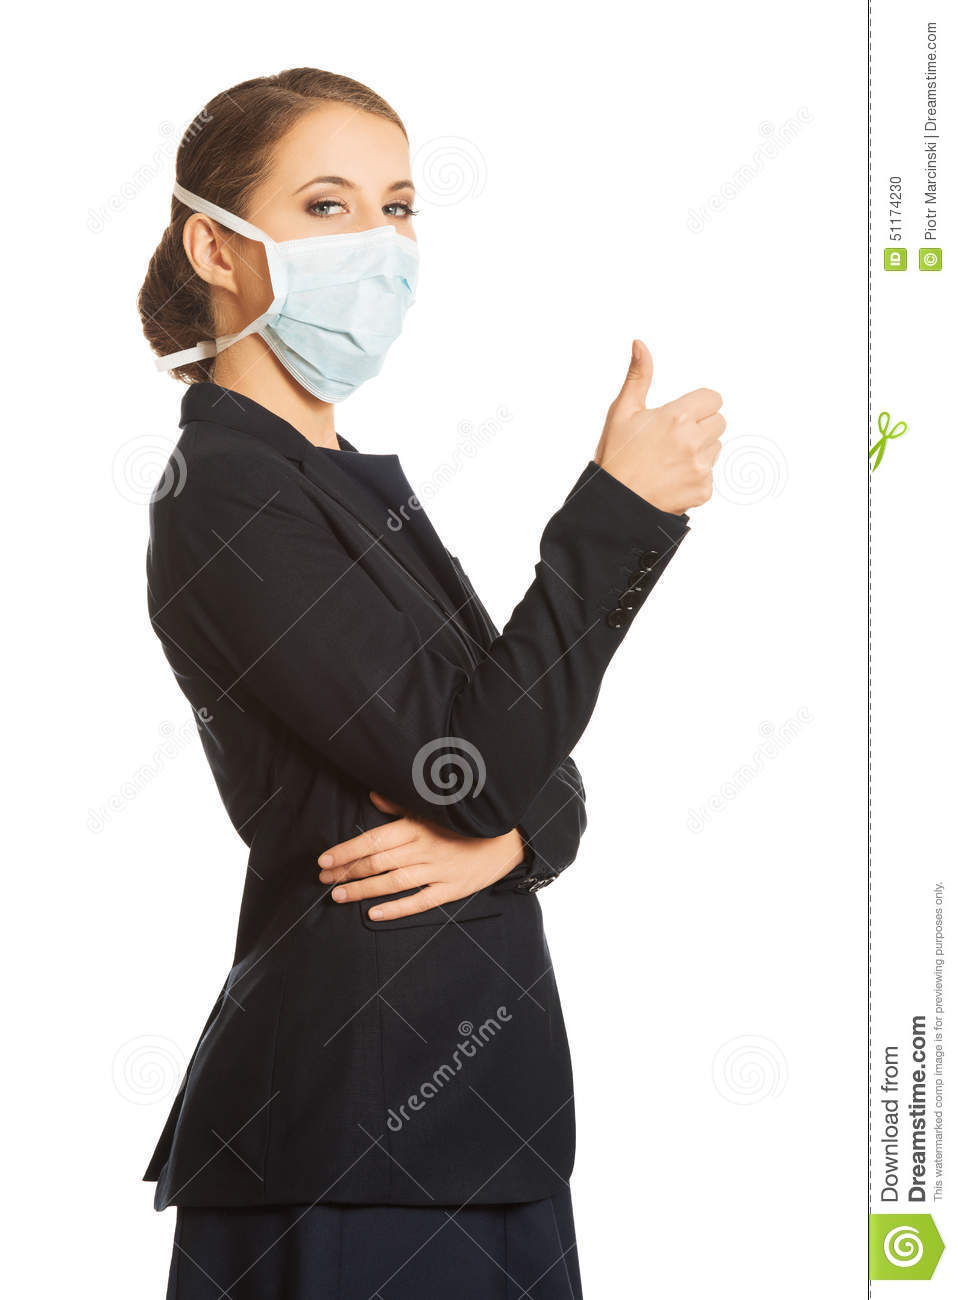mask: (258, 229, 420, 406)
